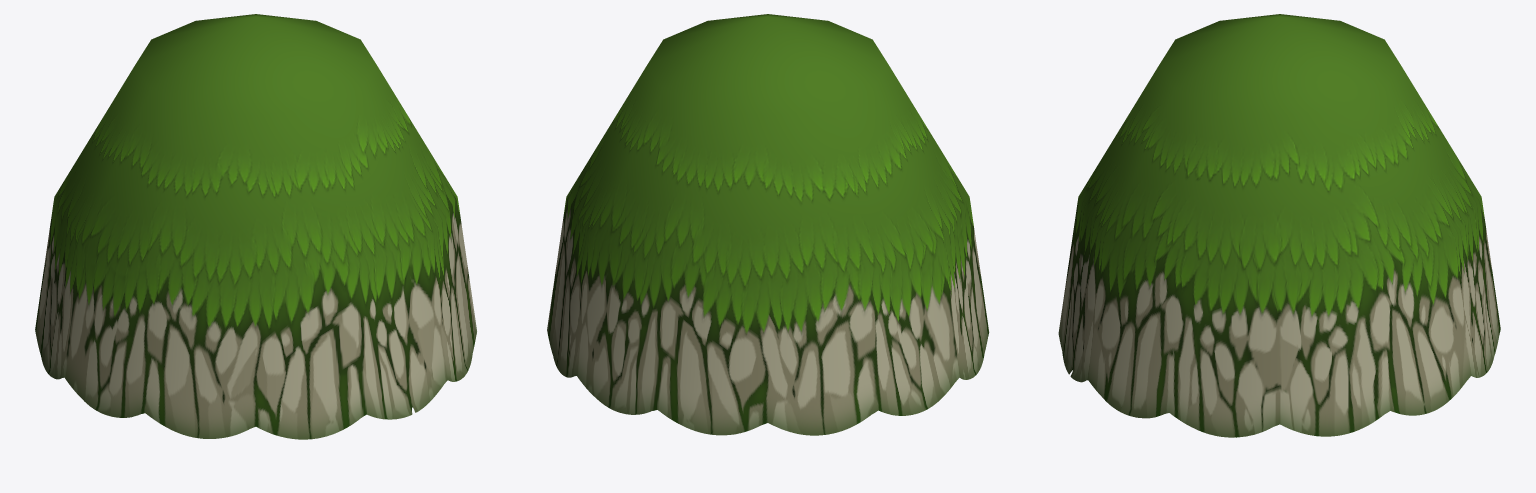
File: Hill_02.FBX
The picture shows the model from 3 angles, left to right: view 1: azimuth 30°, elevation 25°; view 2: azimuth 150°, elevation 25°; view 3: azimuth 270°, elevation 25°; orthographic projection.
Visible parts, largest first — view 1: Hill_02; view 2: Hill_02; view 3: Hill_02.
Part boxes in pixels (left/top/right/bottom): Hill_02: left=35, top=14, right=476, bottom=439; Hill_02: left=547, top=14, right=989, bottom=435; Hill_02: left=1058, top=14, right=1500, bottom=437.
Bounding box in the file's own units: 178 × 146 × 178.
Materials: 1 (1 with a texture image).
